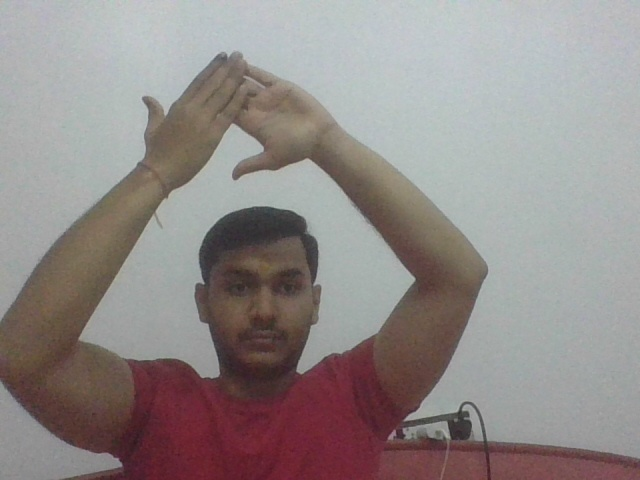H: (141, 48, 321, 176)
